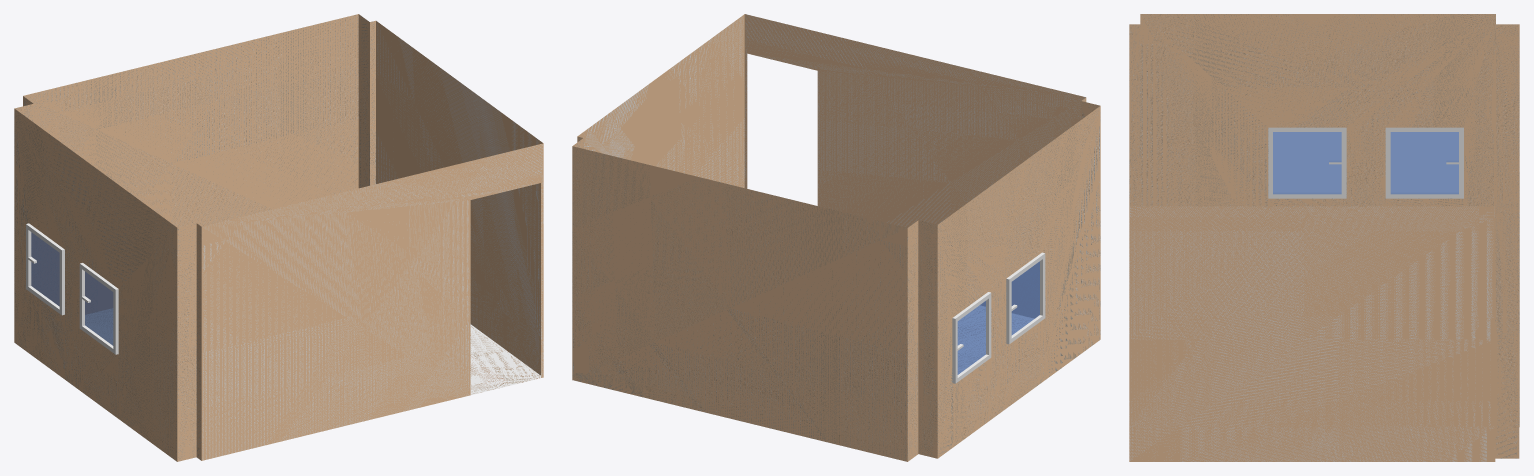
File: DES031.obj
3 views of the same model, side by side, from view 1: azimuth 30°, elevation 25°; view 2: azimuth 150°, elevation 25°; view 3: azimuth 270°, elevation 25° (orthographic). The views are drawn at different scales.
Visible parts, largest first — view 1: Mesh7 DES031 Model, Mesh4 ventana3_1_2 DES031 Model, Mesh1 ventana3_1_1 DES031 Model; view 2: Mesh7 DES031 Model, Mesh4 ventana3_1_2 DES031 Model, Mesh1 ventana3_1_1 DES031 Model; view 3: Mesh7 DES031 Model, Mesh4 ventana3_1_2 DES031 Model, Mesh1 ventana3_1_1 DES031 Model.
Part boxes in pixels (<box>): Mesh7 DES031 Model: <box>14,14,543,461</box>; Mesh4 ventana3_1_2 DES031 Model: <box>79,263,118,354</box>; Mesh1 ventana3_1_1 DES031 Model: <box>26,223,64,315</box>; Mesh7 DES031 Model: <box>572,14,1100,461</box>; Mesh4 ventana3_1_2 DES031 Model: <box>1006,252,1045,344</box>; Mesh1 ventana3_1_1 DES031 Model: <box>952,292,991,383</box>; Mesh7 DES031 Model: <box>1129,14,1519,461</box>; Mesh4 ventana3_1_2 DES031 Model: <box>1268,127,1346,198</box>; Mesh1 ventana3_1_1 DES031 Model: <box>1385,127,1463,198</box>.
Size of the model in its own units: 5.86 by 3.6 by 4.98.
Materials: 6 (2 with a texture image).
